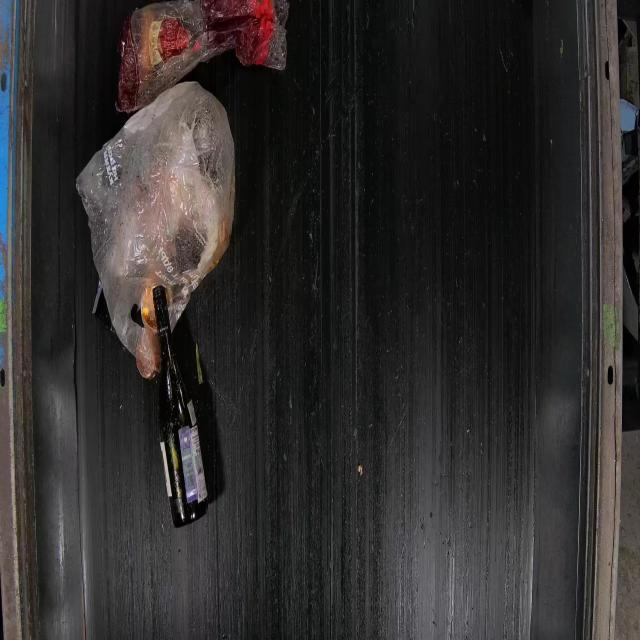E-waste: (74, 79, 236, 379)
bottles: (151, 284, 210, 527)
cardboard: (1, 0, 623, 639)
